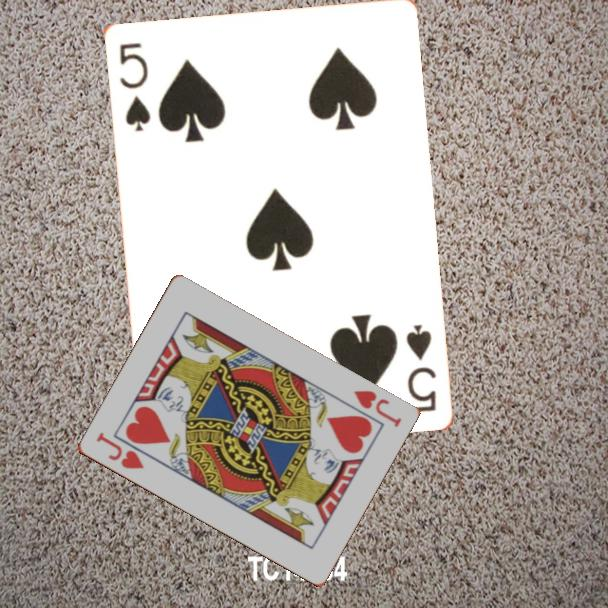h11: (92, 428, 147, 472), (350, 387, 404, 430)
s05: (115, 39, 153, 134), (402, 321, 439, 415)
